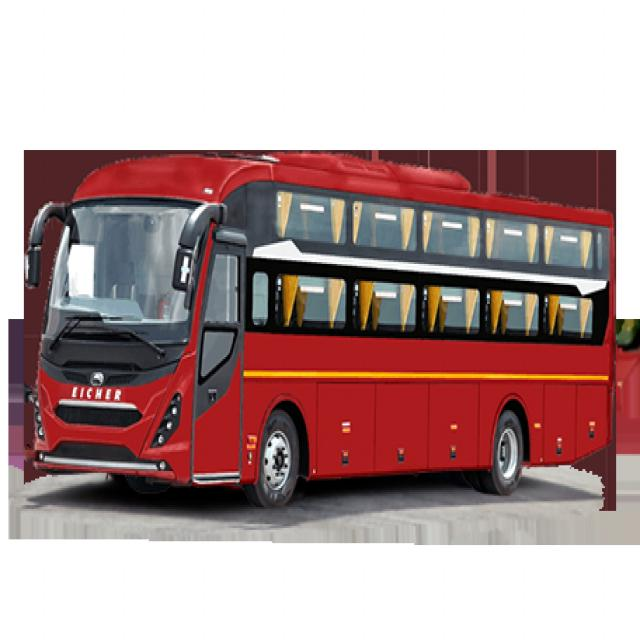bus: (28, 150, 620, 498)
